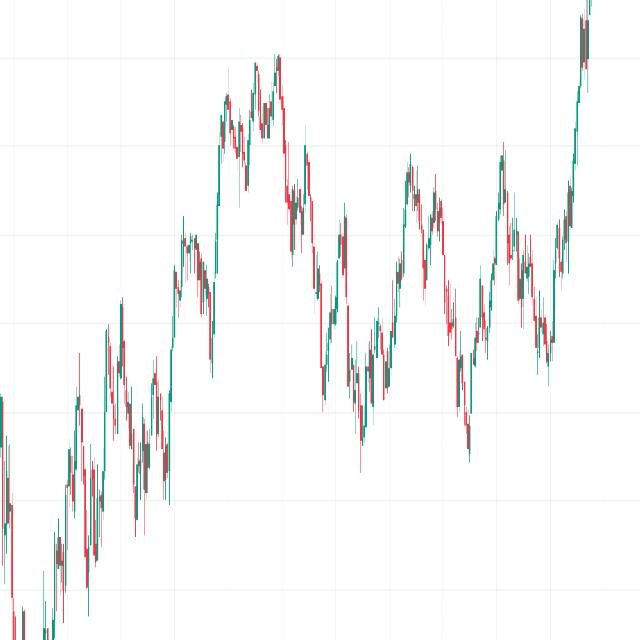Triple-Bottom: (343, 133, 567, 468)
